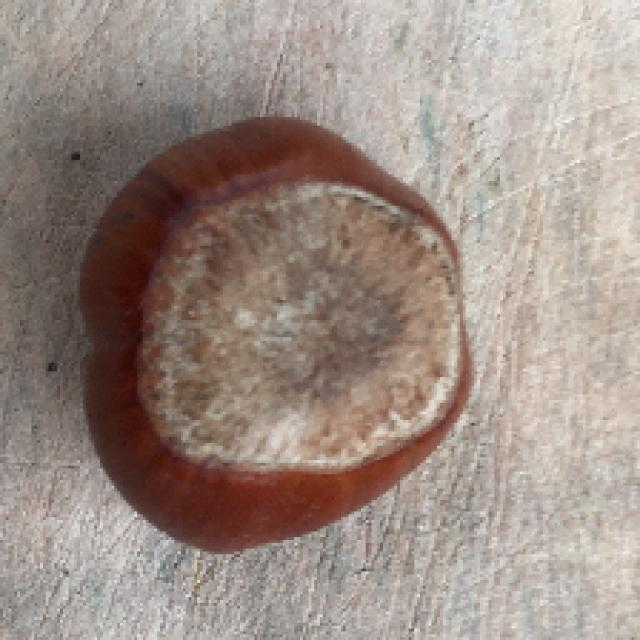qualityHazelnut: (78, 112, 474, 556)
